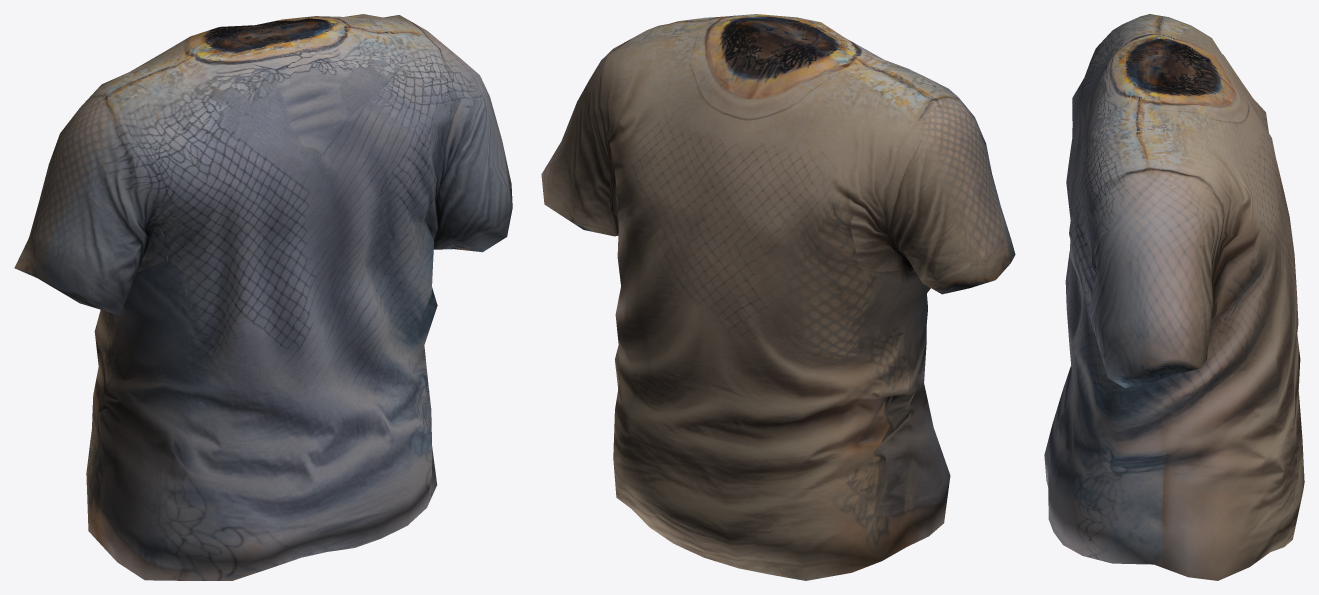
Rendered from BlackTshirt2.fbx.
The picture shows the model from 3 angles, left to right: view 1: azimuth 30°, elevation 25°; view 2: azimuth 150°, elevation 25°; view 3: azimuth 270°, elevation 25°; orthographic projection. The views are drawn at different scales.
Visible parts, largest first — view 1: Mesh_0.001; view 2: Mesh_0.001; view 3: Mesh_0.001.
Part boxes in pixels (x1,y1,x2,y2): Mesh_0.001: [14, 14, 512, 580]; Mesh_0.001: [541, 14, 1015, 580]; Mesh_0.001: [1044, 14, 1304, 580].
Size of the model in its own units: 0.5856 by 0.2955 by 0.5882.
Materials: 1 (1 with a texture image).
